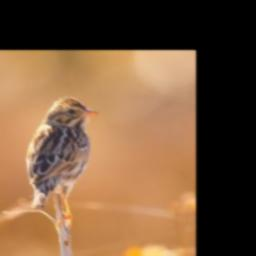Sparrow: (25, 95, 102, 230)
